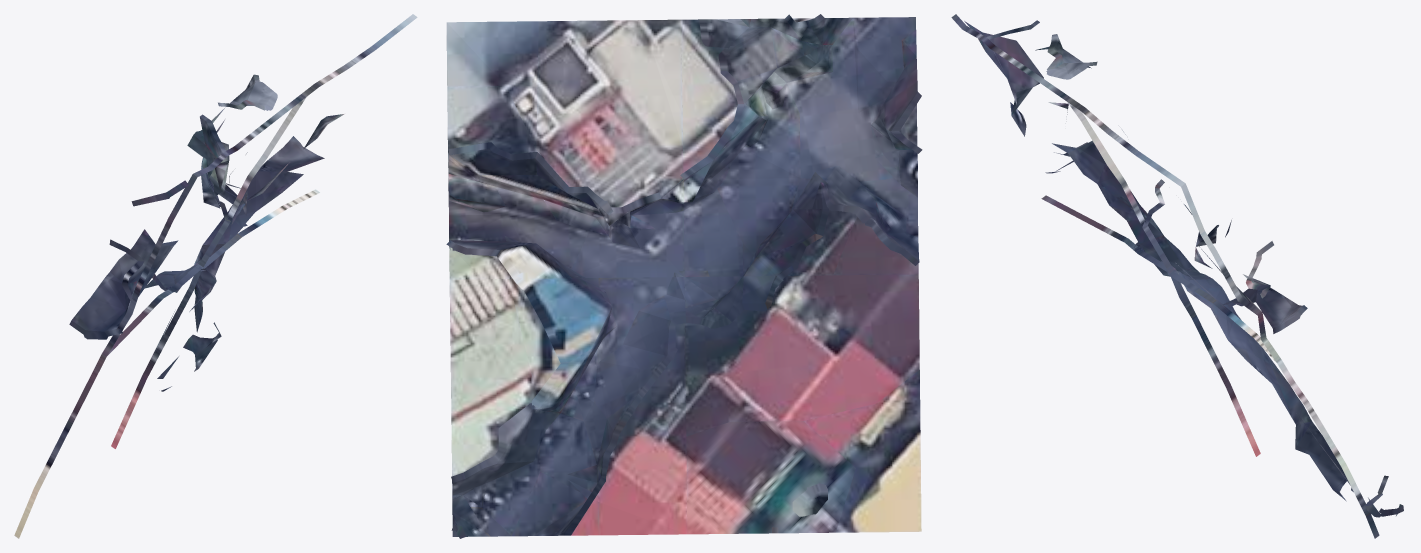
3 views of the same model, side by side, from view 1: azimuth 30°, elevation 25°; view 2: azimuth 150°, elevation 25°; view 3: azimuth 270°, elevation 25° (orthographic). The views are drawn at different scales.
Size of the model in its own units: 38.41 by 36.51 by 34.76.
Materials: 1 (1 with a texture image).
